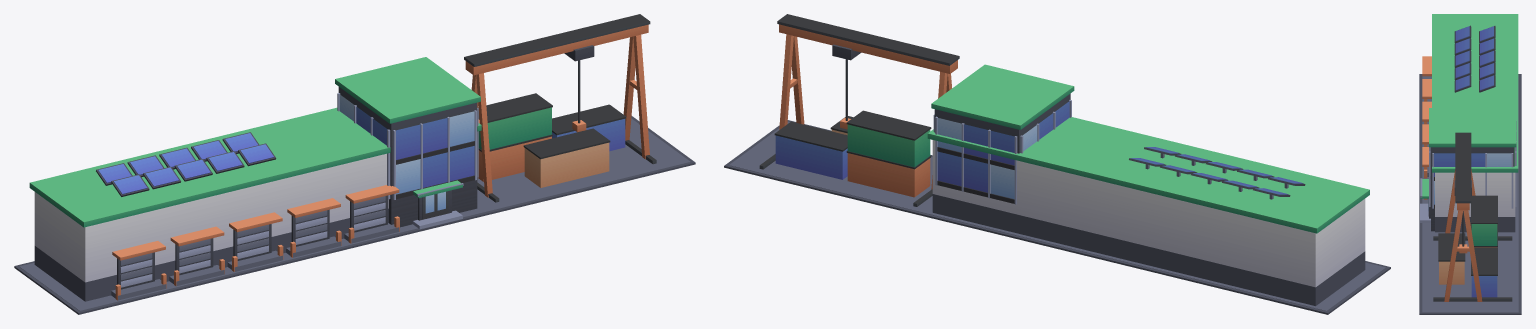
The model's file is ind_logistics_hub_5x1.glb.
3 renders of one model, left to right at view 1: azimuth 30°, elevation 25°; view 2: azimuth 150°, elevation 25°; view 3: azimuth 270°, elevation 25°, orthographic. The views are drawn at different scales.
Visible parts, largest first — view 1: ind_logistics_hub_5x1; view 2: ind_logistics_hub_5x1; view 3: ind_logistics_hub_5x1.
Boxes of the visible parts, x1=… form: ind_logistics_hub_5x1: x1=14, y1=14, x2=695, y2=314; ind_logistics_hub_5x1: x1=724, y1=14, x2=1390, y2=314; ind_logistics_hub_5x1: x1=1419, y1=14, x2=1521, y2=314.
Bounding box in the file's own units: 9.74 × 1.99 × 1.76.
Materials: 1 (1 with a texture image).
